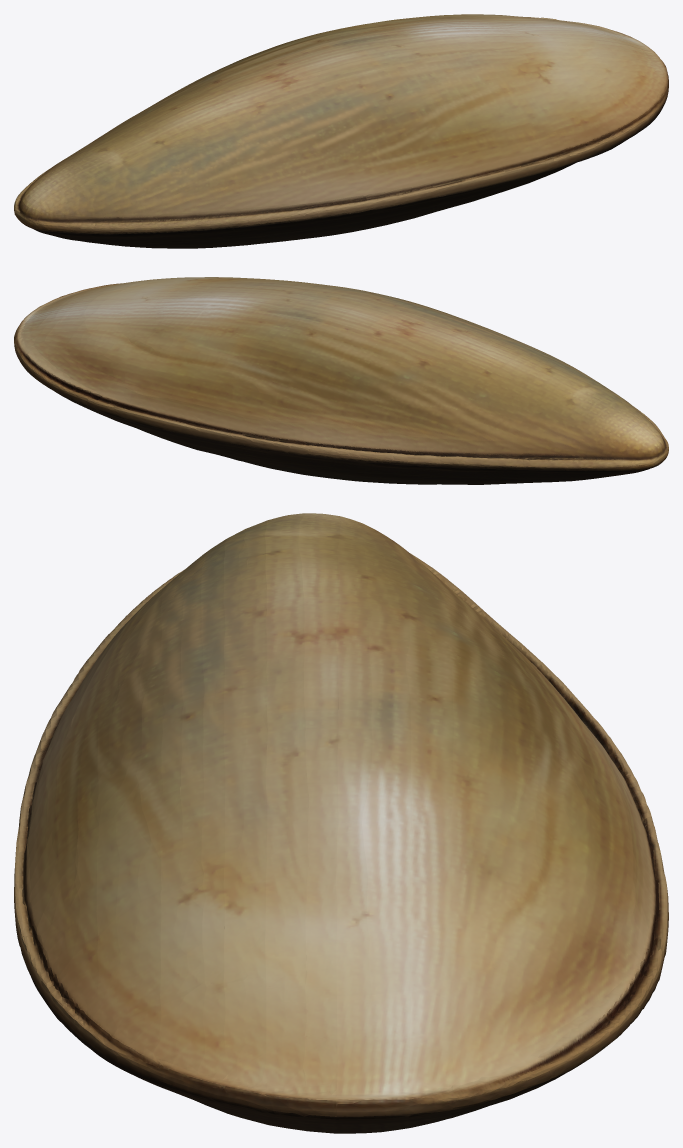
3 views of the same model, one above another, from view 1: azimuth 30°, elevation 25°; view 2: azimuth 150°, elevation 25°; view 3: azimuth 270°, elevation 25° (orthographic). The views are drawn at different scales.
Visible parts, largest first — view 1: world; view 2: world; view 3: world.
Part boxes in pixels (x1,y1,x2,y2): world: [14, 14, 668, 248]; world: [14, 277, 668, 484]; world: [14, 513, 668, 1133].
Size of the model in its own units: 0.09 by 0.0204 by 0.0431.
1 material, 1 textured.
